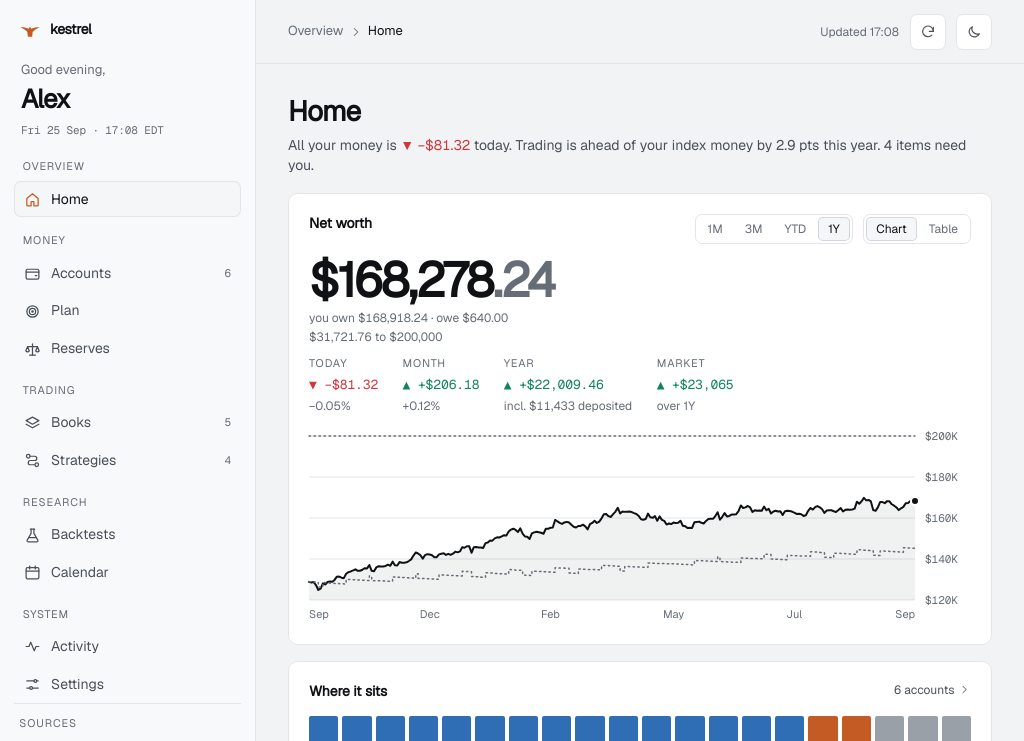
Test: Plan › opens Plan from the sidebar
Click the link "Plan" at (52, 311), box [24,302,80,320]
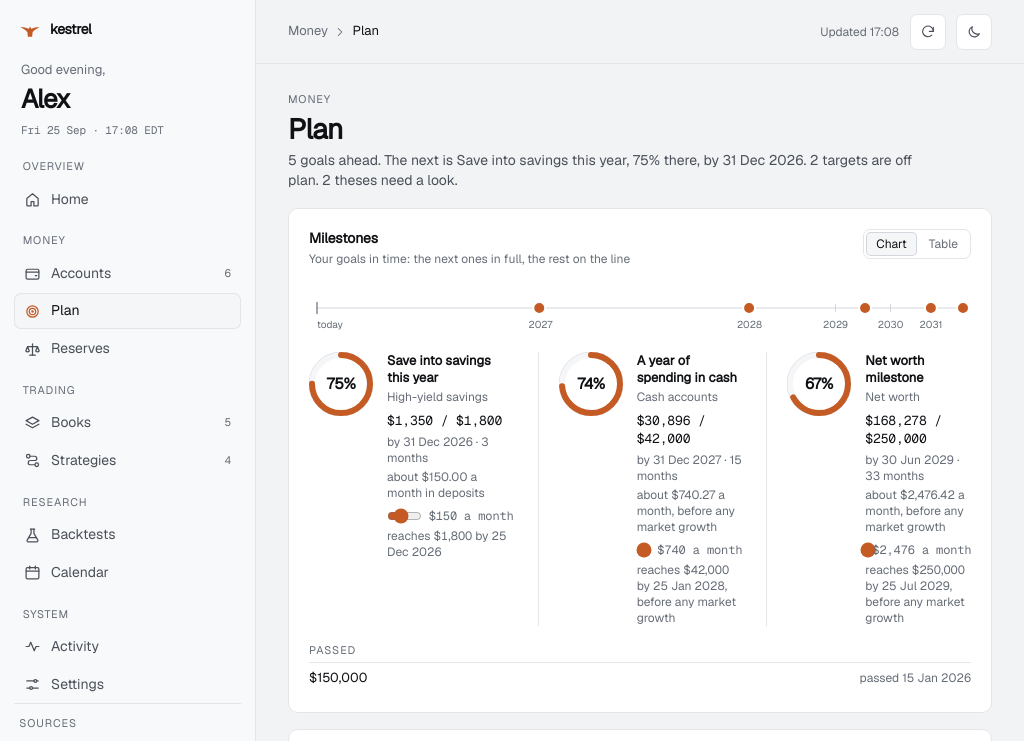
Expected: the heading "Plan" is shown, [288,111,342,147]
